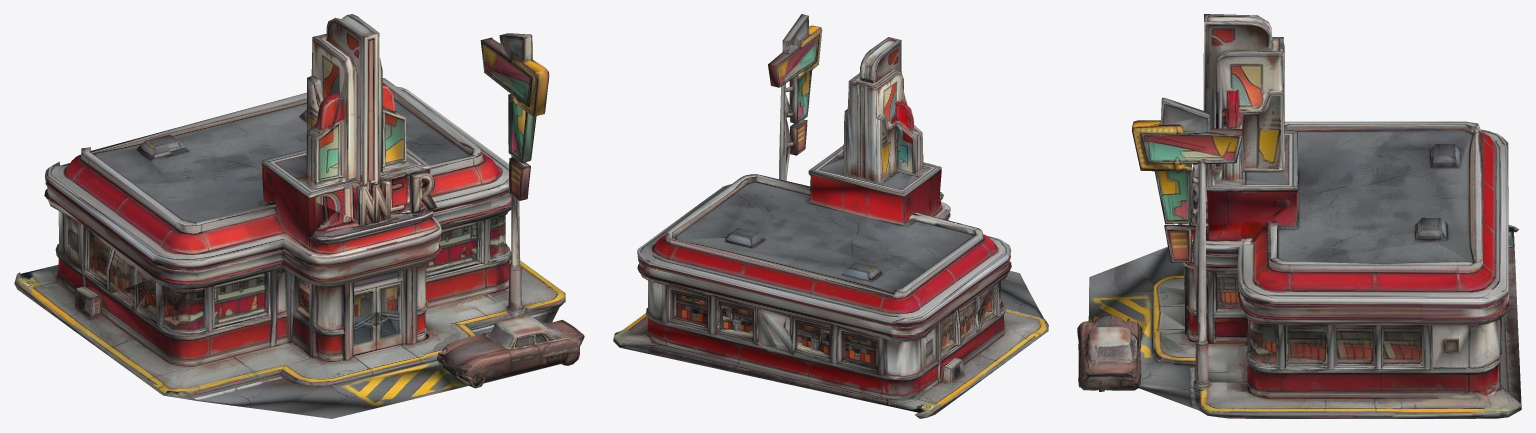
File: diner.glb
3 views of the same model, side by side, from view 1: azimuth 30°, elevation 25°; view 2: azimuth 150°, elevation 25°; view 3: azimuth 270°, elevation 25° (orthographic). The views are drawn at different scales.
Parts seen in each view (by area): view 1: Mesh_0; view 2: Mesh_0; view 3: Mesh_0.
Part boxes in pixels (left/top/right/bottom): Mesh_0: left=14, top=14, right=584, bottom=418; Mesh_0: left=613, top=14, right=1048, bottom=418; Mesh_0: left=1077, top=14, right=1521, bottom=418.
Bounding box in the file's own units: 1.9 × 1.42 × 1.87.
Materials: 1 (1 with a texture image).
